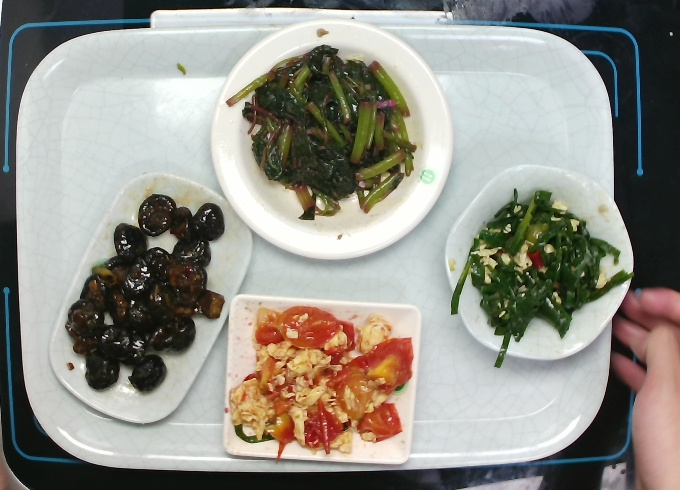WCQzf-Bai_Se_Si_Fang_Die: (221, 290, 421, 469)
WCQzf-Hua_Duo_Wan: (442, 162, 633, 362)
WCQzf-Kuan_Bian_Yuan_Die: (207, 19, 454, 262)
WCQzf-Tuo_Yuan_Pan: (46, 172, 253, 426)
